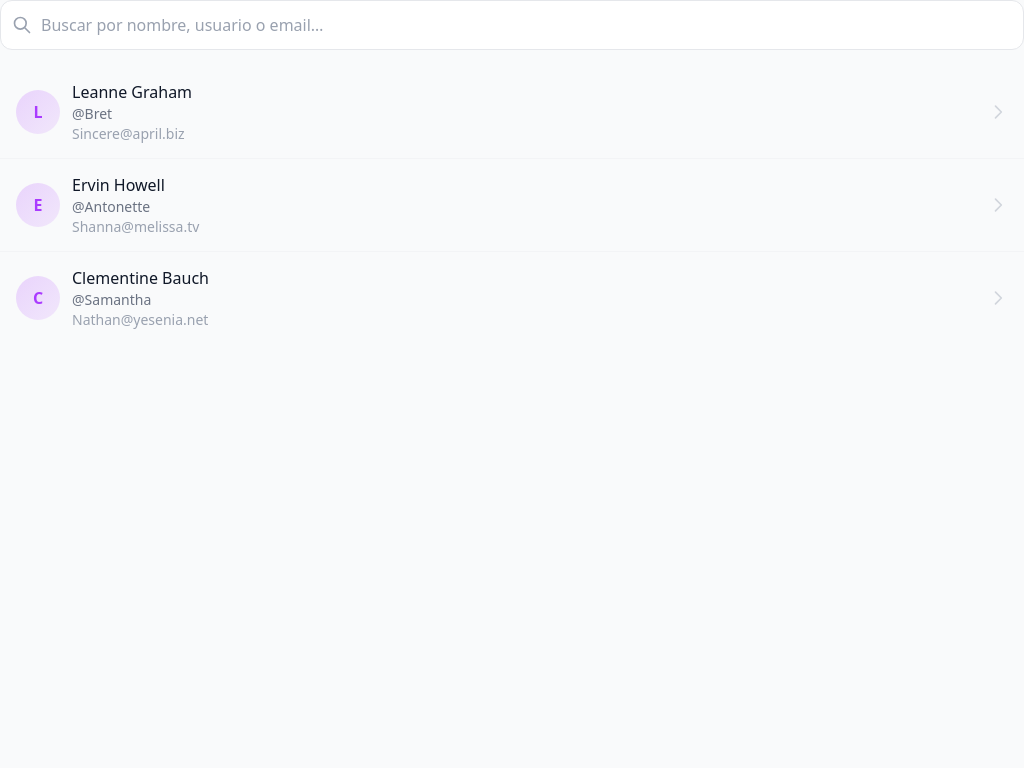
Test: Create Post Dialog › opens dialog when clicking "Nueva publicación" button
Step 1. Click the heading "Leanne Graham" → (132, 92), box [72, 81, 192, 103]
(page scrolled)
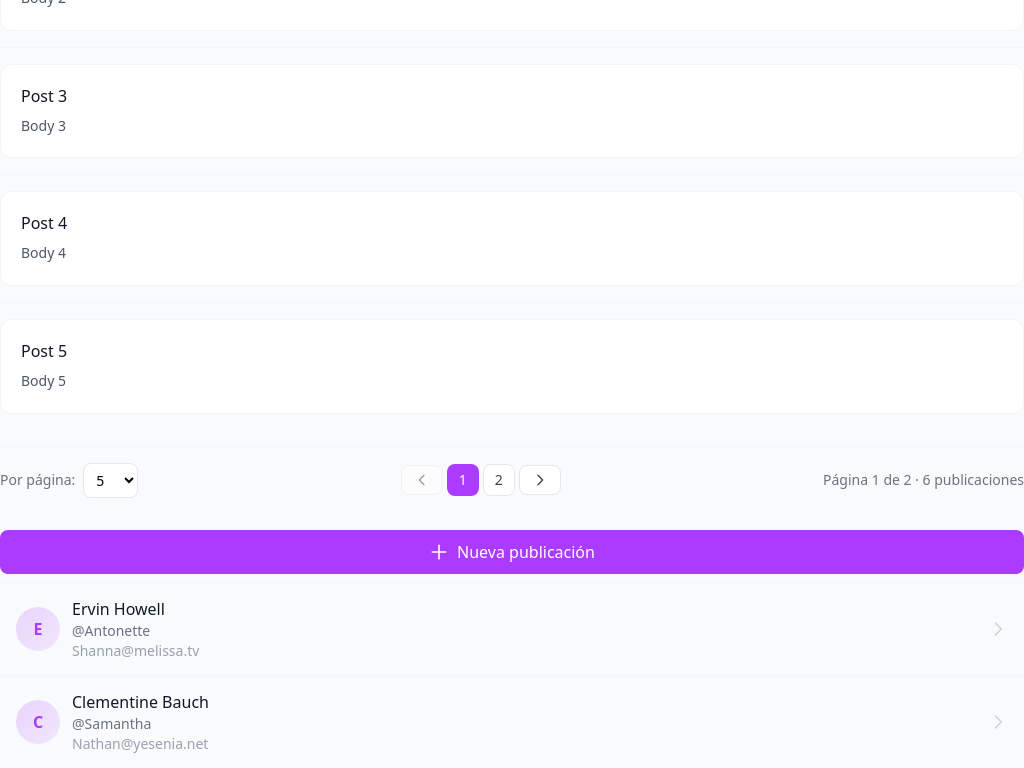
Step 2. Click the button "Nueva publicación" → (512, 552), box [0, 530, 1023, 574]
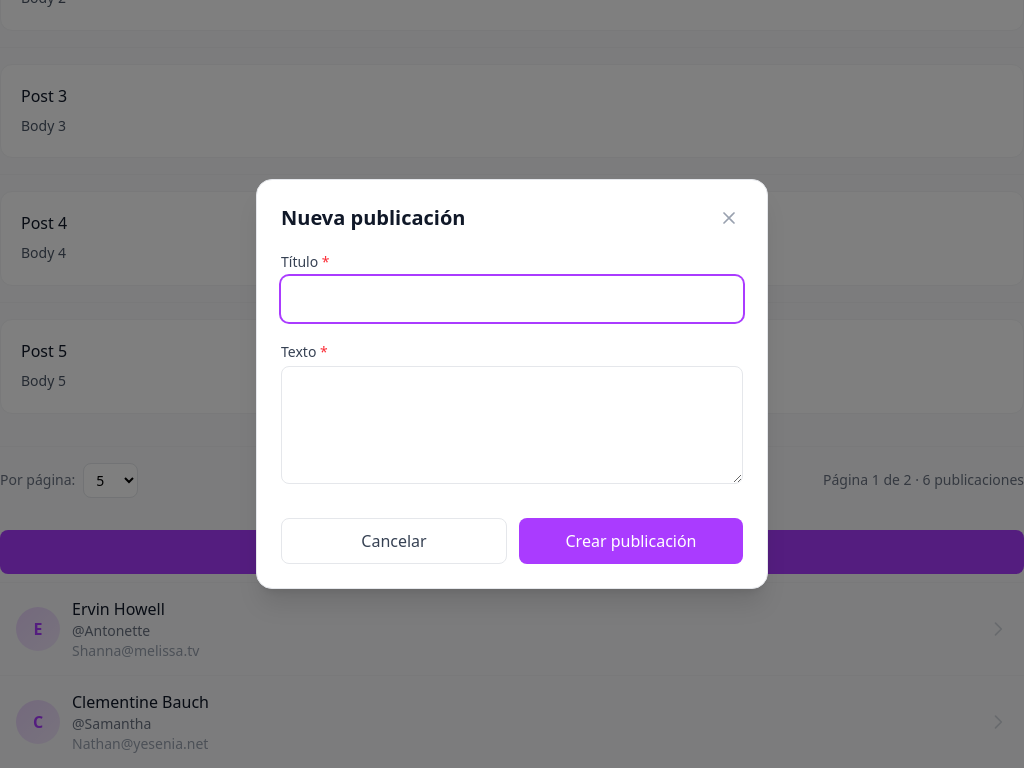
Expected: the dialog "Nueva publicación" is shown
